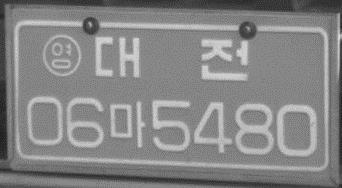0: (276, 103, 318, 156), (26, 94, 63, 146)
4: (192, 100, 234, 154)
5: (149, 98, 191, 152)
6: (64, 95, 104, 148)
8: (233, 101, 274, 156)
대전_D: (93, 34, 251, 82)
마: (107, 100, 146, 150)
영: (41, 34, 81, 78)
